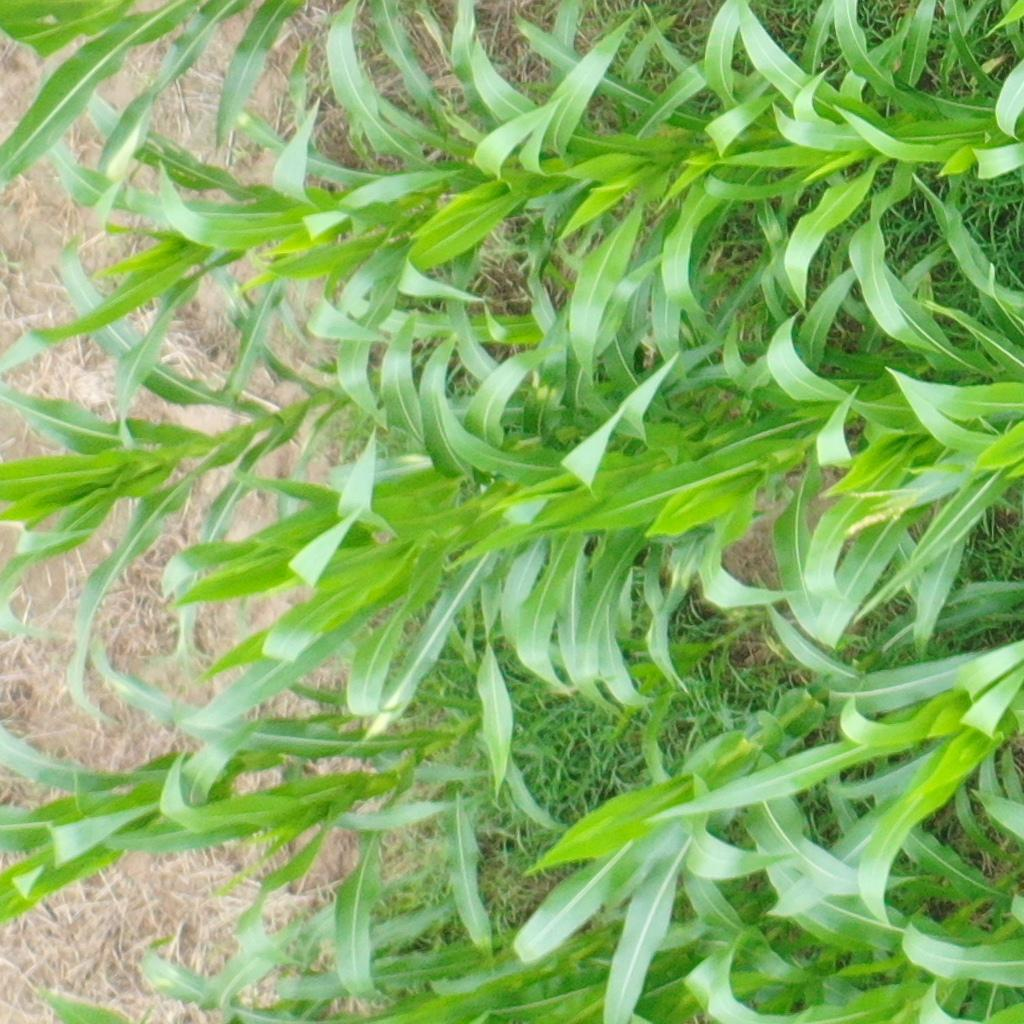Tassel: (844, 476, 928, 533)
